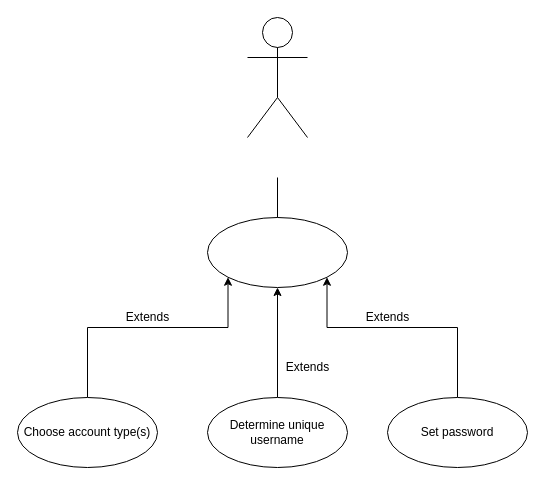
Some shapes in this 545 by 485 pixel diagram are drawn without their labels. The centre of each missing label's shape, as x and y in pixels:
"Create Account" belongs at (277,252).
"Public User" belongs at (277,77).
